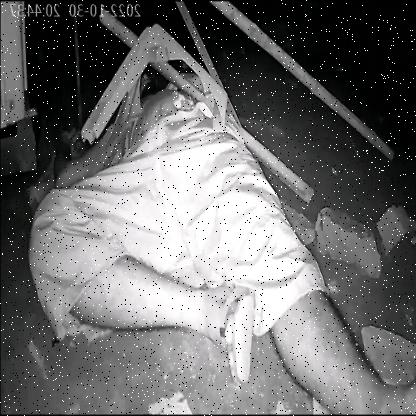leg: (24, 75, 415, 416), (71, 252, 261, 390)
